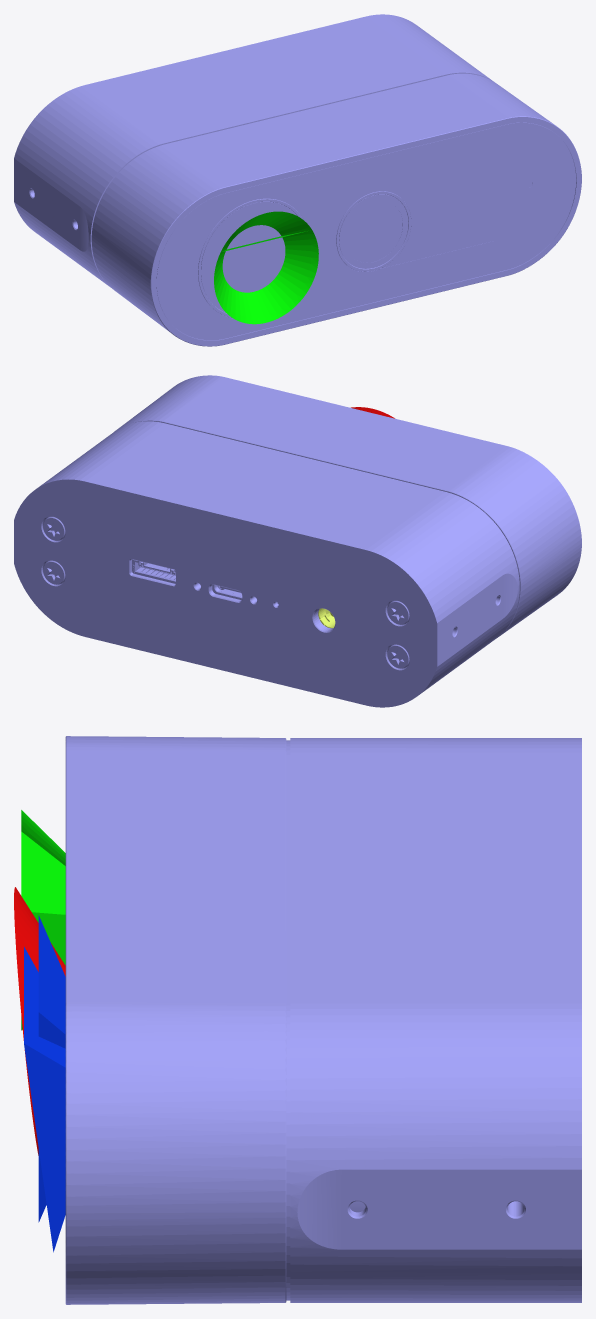
File: orbbec-femto-bolt.glb
3 renders of one model, top to bottom at view 1: azimuth 30°, elevation 25°; view 2: azimuth 150°, elevation 25°; view 3: azimuth 270°, elevation 25°, orthographic. The views are drawn at different scales.
Visible parts, largest first — view 1: orbbec-femto-bolt; view 2: orbbec-femto-bolt; view 3: orbbec-femto-bolt.
Part boxes in pixels (x1,y1,x2,y2): orbbec-femto-bolt: (14,14,581,346); orbbec-femto-bolt: (14,375,581,707); orbbec-femto-bolt: (14,736,581,1304).
Size of the model in its own units: 115 by 40.27 by 71.77.
